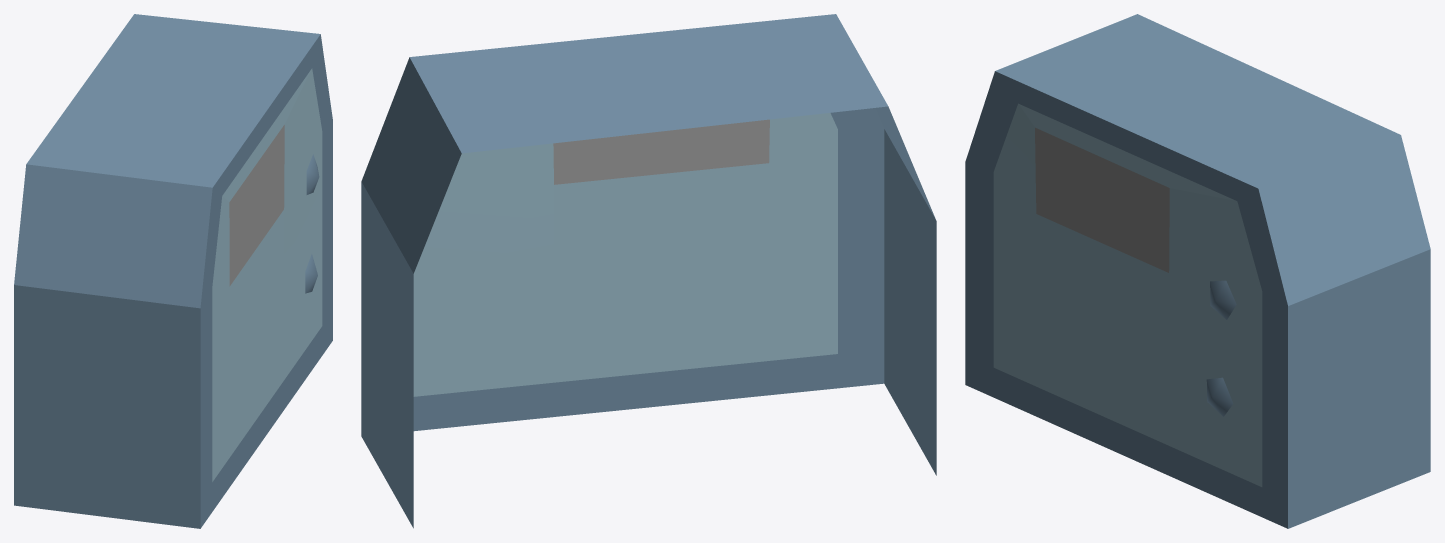
File: MSH_QuestObject_safe_01.fbx
3 renders of one model, left to right at view 1: azimuth 30°, elevation 25°; view 2: azimuth 150°, elevation 25°; view 3: azimuth 270°, elevation 25°, orthographic. The views are drawn at different scales.
Parts seen in each view (by area): view 1: MSH_QuestObject_safe_01; view 2: MSH_QuestObject_safe_01; view 3: MSH_QuestObject_safe_01.
Part boxes in pixels (bbox=[...]): MSH_QuestObject_safe_01: bbox=[14, 14, 332, 528]; MSH_QuestObject_safe_01: bbox=[361, 14, 936, 528]; MSH_QuestObject_safe_01: bbox=[965, 14, 1430, 528].
Bounding box in the file's own units: 0.7198 × 0.5459 × 0.704.
